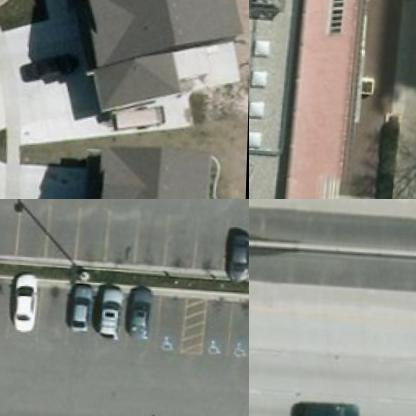car: (16, 46, 74, 90), (6, 274, 42, 333), (122, 283, 158, 342), (90, 284, 126, 343), (60, 282, 96, 341), (287, 395, 361, 415), (222, 232, 248, 283)
